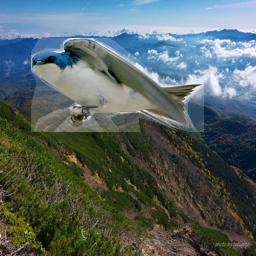Swallow: (31, 38, 204, 132)
